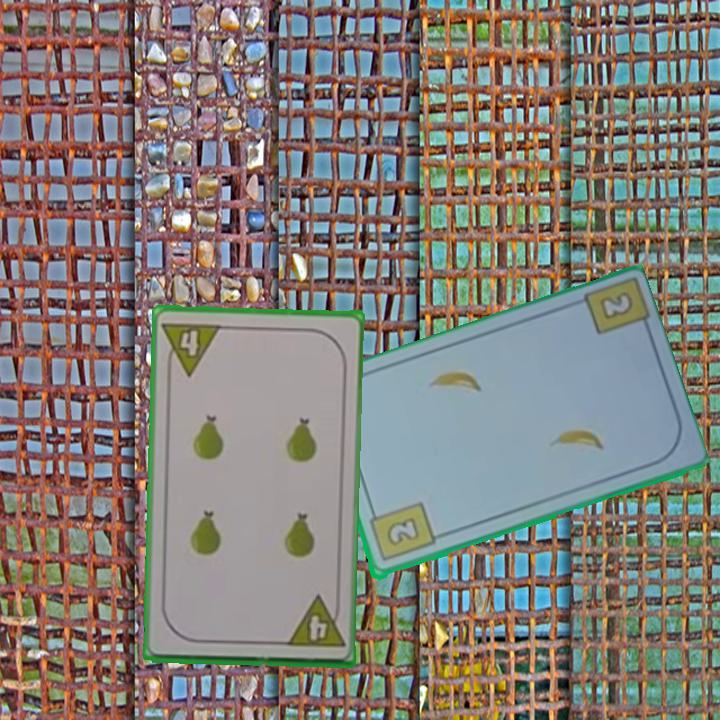2b: (365, 499, 438, 565), (595, 288, 636, 324)
4p: (159, 318, 224, 378), (282, 593, 347, 651)
